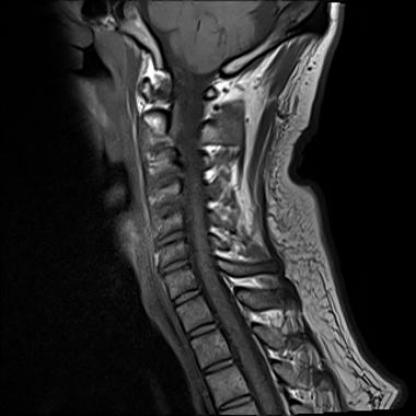Disc Herniationrotation: (145, 172, 183, 191), (147, 201, 188, 217), (151, 230, 189, 247), (158, 260, 192, 275)
Osteophytesrotation: (145, 172, 183, 191), (151, 229, 189, 247), (147, 201, 188, 217), (158, 260, 192, 275)
